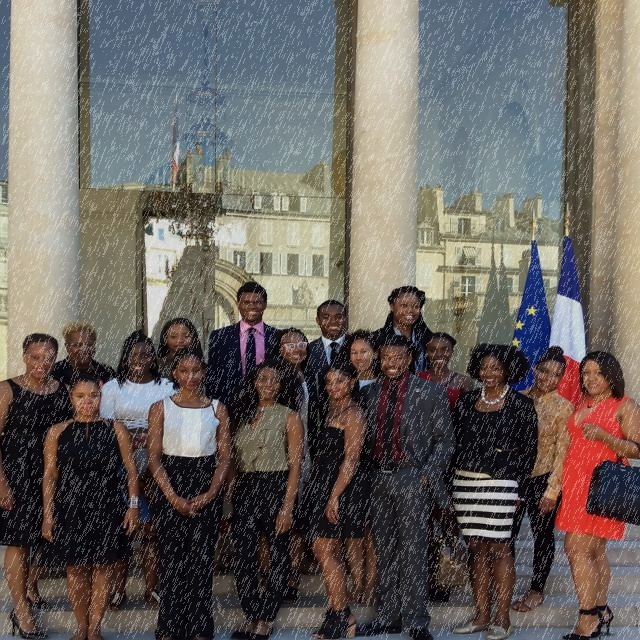pessoa: (349, 331, 458, 639), (442, 342, 538, 639), (39, 369, 142, 639), (143, 343, 235, 639), (548, 347, 639, 639), (98, 329, 184, 616), (0, 331, 79, 639), (226, 357, 306, 639), (306, 357, 373, 639), (511, 344, 575, 613), (272, 326, 324, 606), (336, 328, 388, 604), (206, 280, 288, 422), (368, 285, 436, 380), (48, 319, 122, 393), (414, 331, 474, 414), (156, 316, 206, 396), (308, 299, 354, 377)
